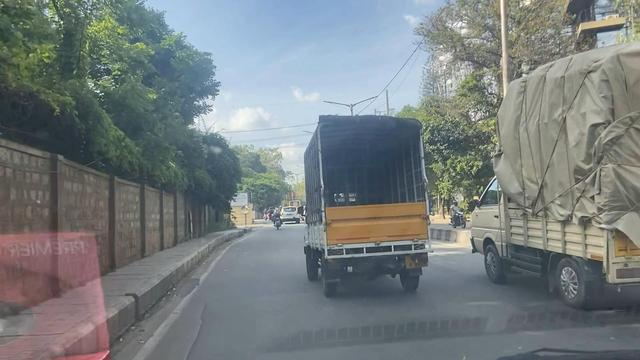HMV: (469, 49, 640, 308), (294, 100, 455, 308)
